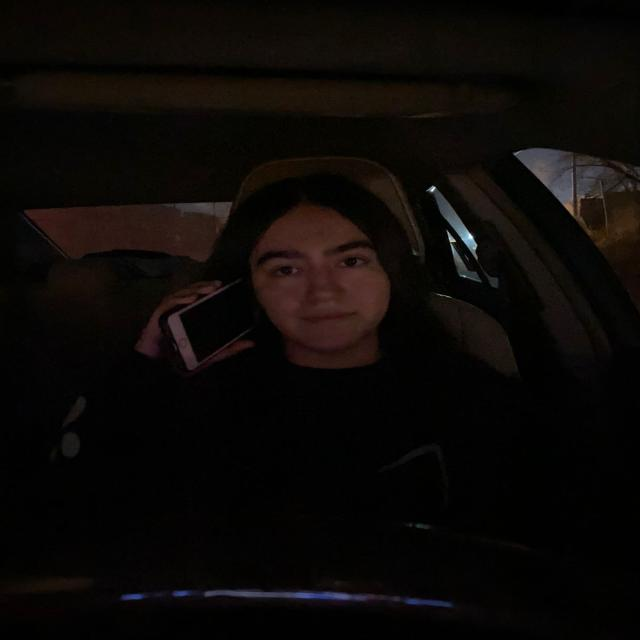phone: (162, 278, 257, 372)
